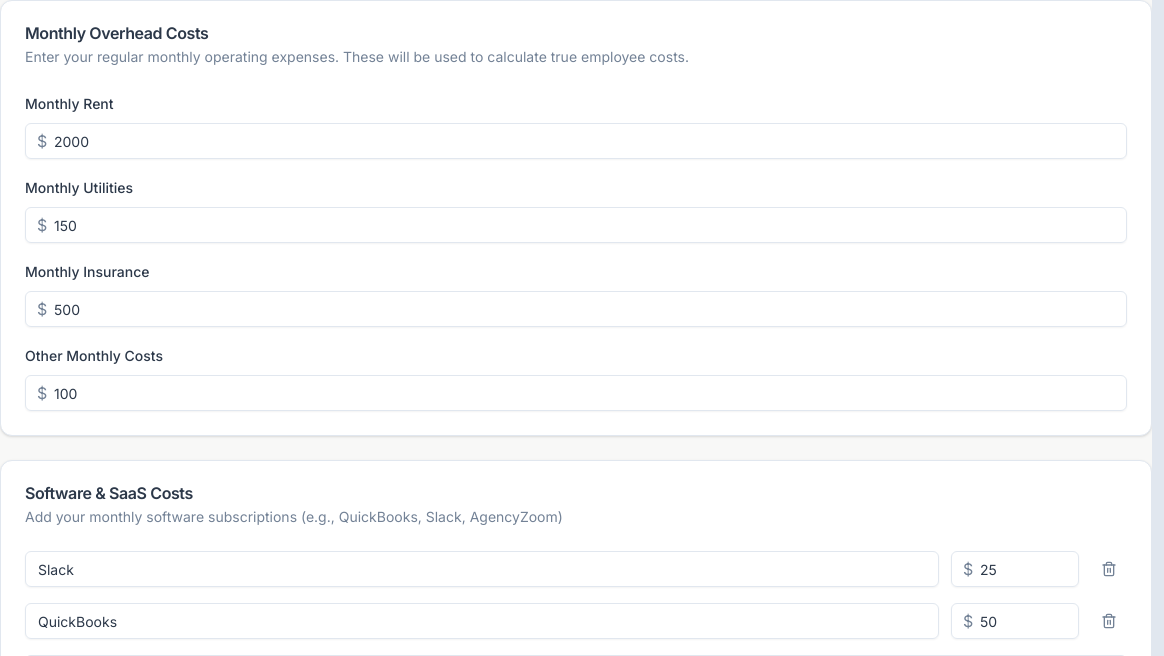
OverheadCostForm › form interactions › removes software item when remove button is clicked
Click the 1st button named "Remove software": (1109, 569) [1091,551,1127,587]
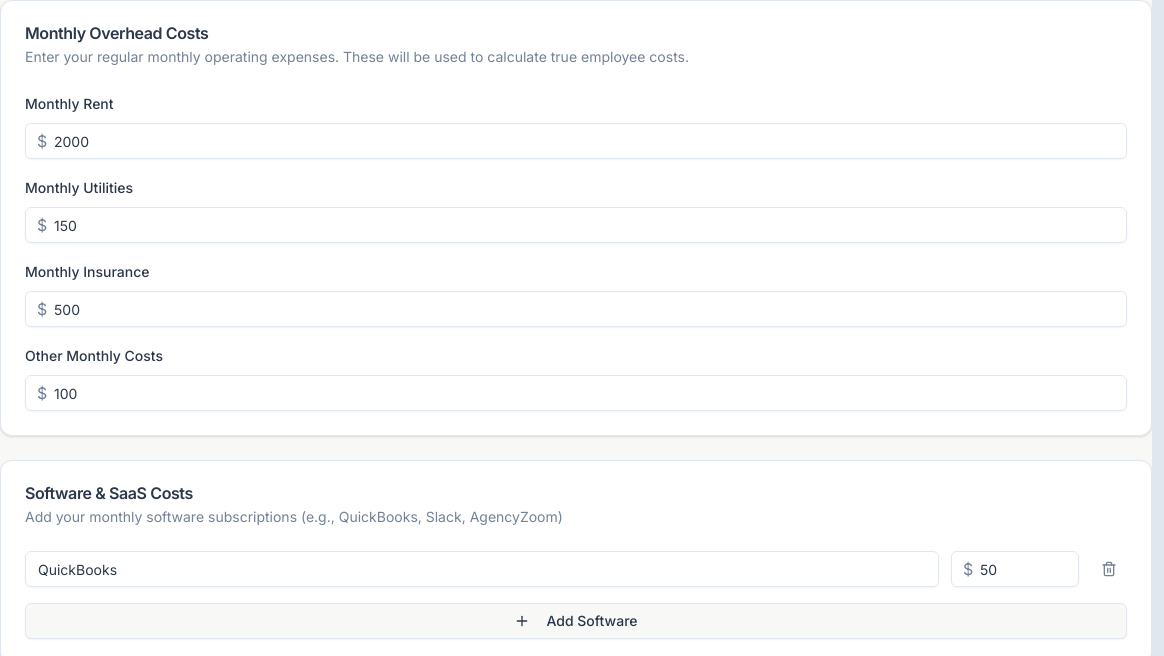
Expected: the number of fields named "Software name" is 1, [25,551,939,587]
